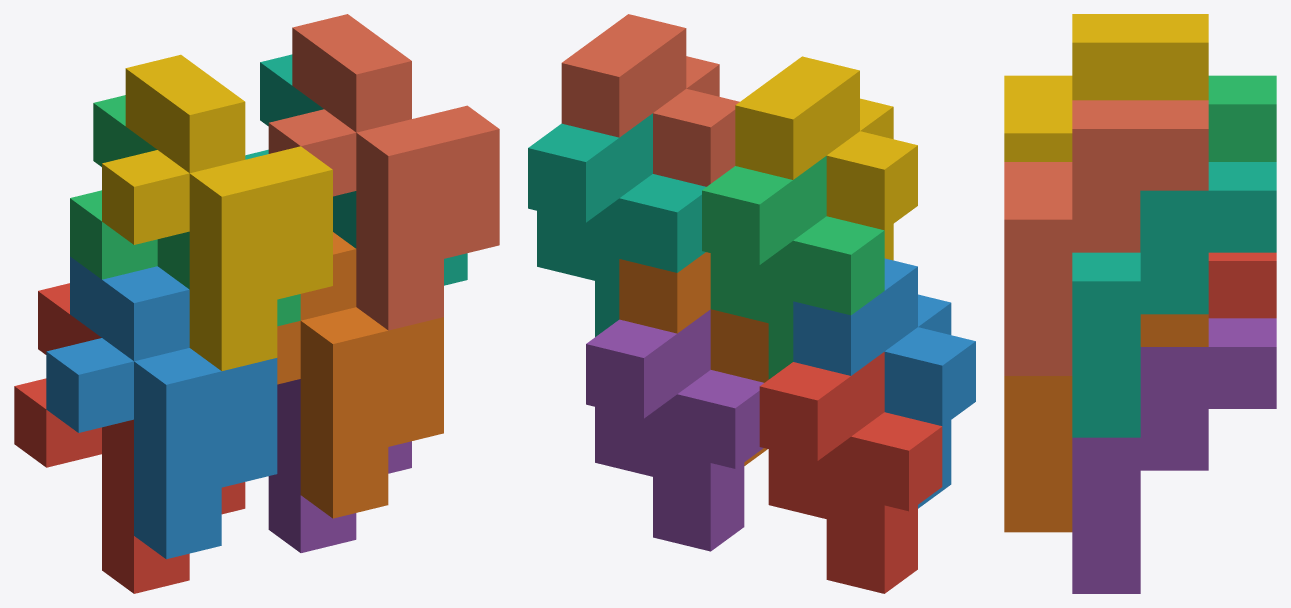
The model's file is tiling.obj.
3 views of the same model, side by side, from view 1: azimuth 30°, elevation 25°; view 2: azimuth 150°, elevation 25°; view 3: azimuth 270°, elevation 25° (orthographic). The views are drawn at different scales.
Parts seen in each view (by area): view 1: copy_1_domain_4, copy_1_domain_8, copy_1_domain_2, copy_1_domain_6, copy_1_domain_1, copy_1_domain_3, copy_1_domain_5, copy_1_domain_7; view 2: copy_1_domain_1, copy_1_domain_5, copy_1_domain_3, copy_1_domain_7, copy_1_domain_4, copy_1_domain_8, copy_1_domain_2, copy_1_domain_6; view 3: copy_1_domain_8, copy_1_domain_7, copy_1_domain_5, copy_1_domain_4, copy_1_domain_6, copy_1_domain_3, copy_1_domain_1.
Part boxes in pixels (box(x1,y1,x2,y2)): copy_1_domain_4: box(102, 54, 332, 370); copy_1_domain_8: box(268, 14, 499, 330); copy_1_domain_2: box(46, 256, 277, 559); copy_1_domain_6: box(277, 232, 443, 518); copy_1_domain_1: box(14, 283, 245, 593); copy_1_domain_3: box(70, 95, 300, 326); copy_1_domain_5: box(268, 379, 411, 552); copy_1_domain_7: box(245, 54, 467, 285); copy_1_domain_1: box(759, 352, 942, 593); copy_1_domain_5: box(586, 309, 763, 551); copy_1_domain_3: box(702, 156, 884, 379); copy_1_domain_7: box(528, 113, 705, 336); copy_1_domain_4: box(735, 56, 917, 260); copy_1_domain_8: box(561, 14, 739, 186); copy_1_domain_2: box(793, 258, 975, 508); copy_1_domain_6: box(619, 252, 768, 465); copy_1_domain_8: box(1004, 100, 1208, 375); copy_1_domain_7: box(1072, 162, 1276, 437); copy_1_domain_5: box(1072, 318, 1276, 593); copy_1_domain_4: box(1004, 14, 1208, 161); copy_1_domain_6: box(1004, 314, 1208, 532); copy_1_domain_3: box(1208, 75, 1276, 161); copy_1_domain_1: box(1208, 252, 1276, 318).
Bounding box in the file's own units: 7 × 8 × 4.
